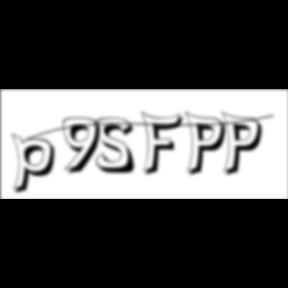9: (62, 117, 108, 177)
F: (141, 110, 189, 178)
P: (184, 110, 232, 180), (222, 110, 268, 180)
S: (96, 117, 142, 176)
p: (12, 132, 62, 198)
